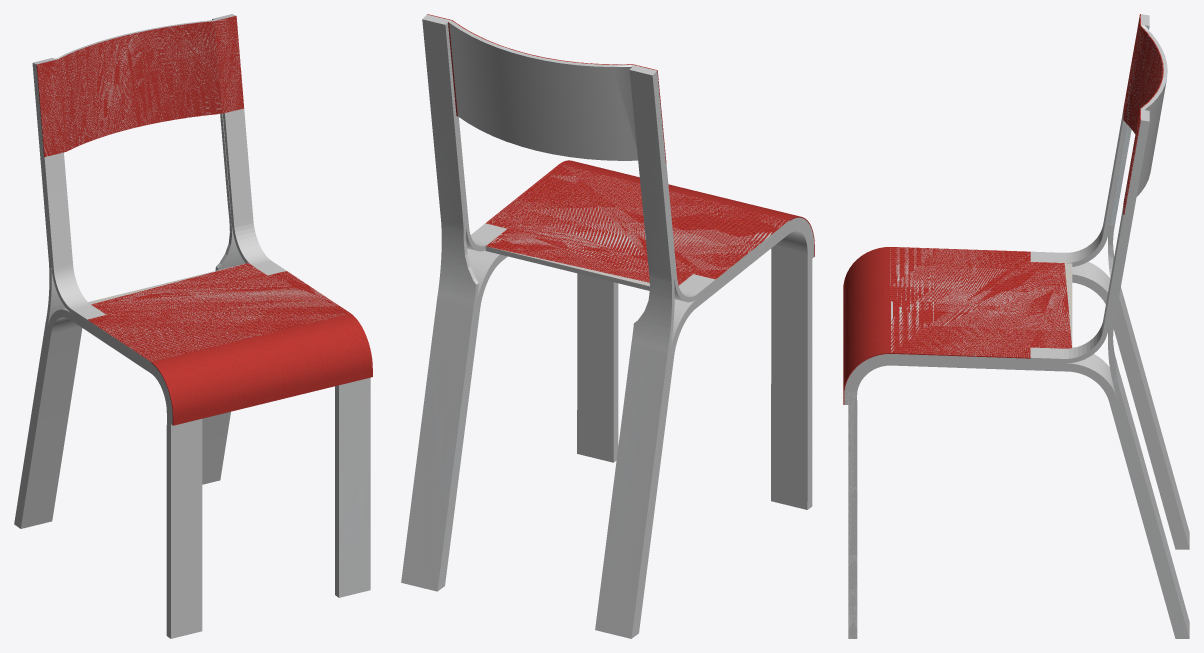
Rendered from chair_2.dae.
3 views of the same model, side by side, from view 1: azimuth 30°, elevation 25°; view 2: azimuth 150°, elevation 25°; view 3: azimuth 270°, elevation 25° (orthographic). The views are drawn at different scales.
Visible parts, largest first — view 1: SketchUp, SketchUp_017, SketchUp_015, SketchUp_030, SketchUp_018, SketchUp_003, SketchUp_005, SketchUp_020, SketchUp_013, SketchUp_023, SketchUp_011, SketchUp_021; view 2: SketchUp_017, SketchUp_025, SketchUp_006, SketchUp_001, SketchUp_003, SketchUp_023, SketchUp_005, SketchUp_021, SketchUp_011, SketchUp_015, SketchUp_014.001, SketchUp_024; view 3: SketchUp_017, SketchUp_021, SketchUp_015, SketchUp_005, SketchUp_023, SketchUp, SketchUp_029, SketchUp_025, SketchUp_006, SketchUp_020, SketchUp_013, SketchUp_001 (+4 smaller).
Boxes of the visible parts, x1,y1,x2,y2 form: SketchUp: [36, 16, 243, 156]; SketchUp_017: [87, 263, 350, 362]; SketchUp_015: [151, 313, 372, 425]; SketchUp_030: [339, 377, 370, 597]; SketchUp_018: [171, 419, 202, 638]; SketchUp_003: [20, 317, 82, 528]; SketchUp_005: [14, 267, 172, 638]; SketchUp_020: [225, 108, 286, 275]; SketchUp_013: [44, 152, 105, 319]; SketchUp_023: [202, 385, 338, 597]; SketchUp_011: [32, 58, 57, 328]; SketchUp_021: [212, 14, 235, 270]; SketchUp_017: [485, 164, 789, 287]; SketchUp_025: [401, 19, 476, 591]; SketchUp_006: [595, 70, 671, 638]; SketchUp_001: [449, 23, 637, 160]; SketchUp_003: [771, 231, 807, 509]; SketchUp_023: [475, 254, 618, 462]; SketchUp_005: [631, 217, 814, 638]; SketchUp_021: [422, 14, 479, 591]; SketchUp_011: [629, 64, 676, 358]; SketchUp_015: [560, 160, 814, 256]; SketchUp_014.001: [485, 247, 649, 290]; SketchUp_024: [467, 248, 499, 306]; SketchUp_017: [890, 247, 1072, 357]; SketchUp_021: [1103, 109, 1189, 638]; SketchUp_015: [843, 247, 1030, 404]; SketchUp_005: [857, 274, 1189, 549]; SketchUp_023: [844, 354, 1117, 506]; SketchUp: [1123, 14, 1162, 214]; SketchUp_029: [844, 391, 857, 638]; SketchUp_025: [1113, 340, 1189, 637]; SketchUp_006: [1113, 245, 1189, 548]; SketchUp_020: [1030, 206, 1123, 358]; SketchUp_013: [1030, 110, 1123, 262]; SketchUp_001: [1136, 79, 1166, 196].
Size of the model in its own units: 0.38 by 0.5243 by 0.8662.
25 materials, 2 textured.
